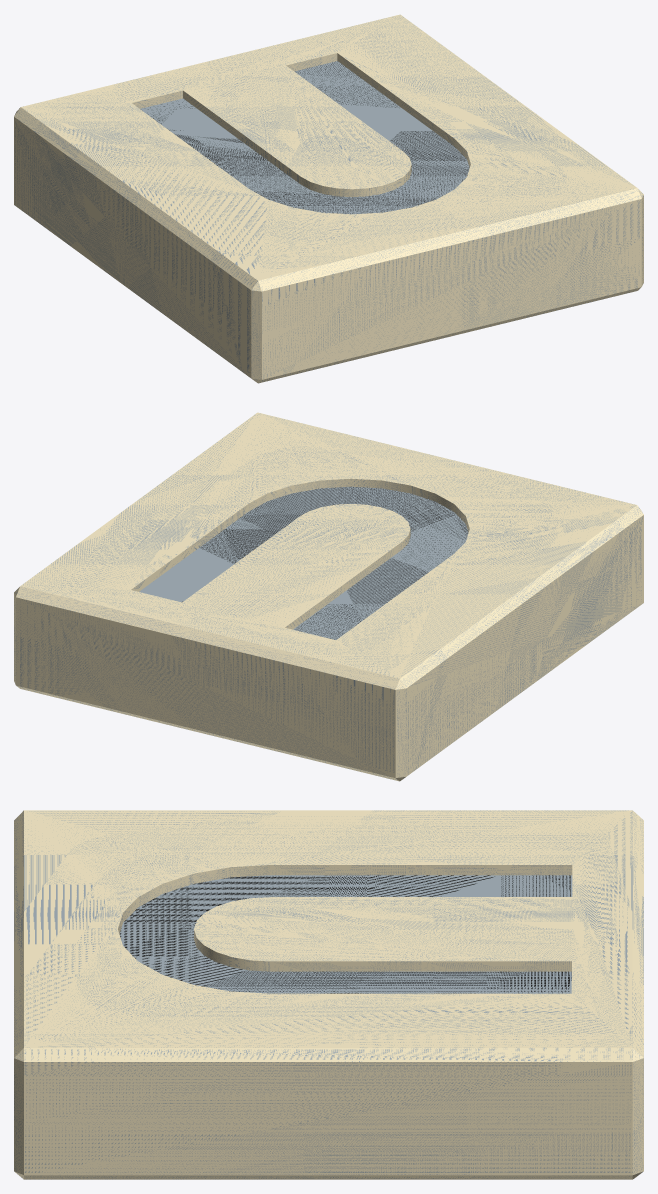
File: Boardgame_Anagram_Tile_U.fbx
3 renders of one model, top to bottom at view 1: azimuth 30°, elevation 25°; view 2: azimuth 150°, elevation 25°; view 3: azimuth 270°, elevation 25°, orthographic. The views are drawn at different scales.
Parts seen in each view (by area): view 1: Model; view 2: Model; view 3: Model.
Part boxes in pixels (x1,y1,x2,y2): Model: (14, 14, 643, 383); Model: (14, 412, 643, 781); Model: (14, 810, 643, 1179).
Bounding box in the file's own units: 195 × 48.83 × 212.
